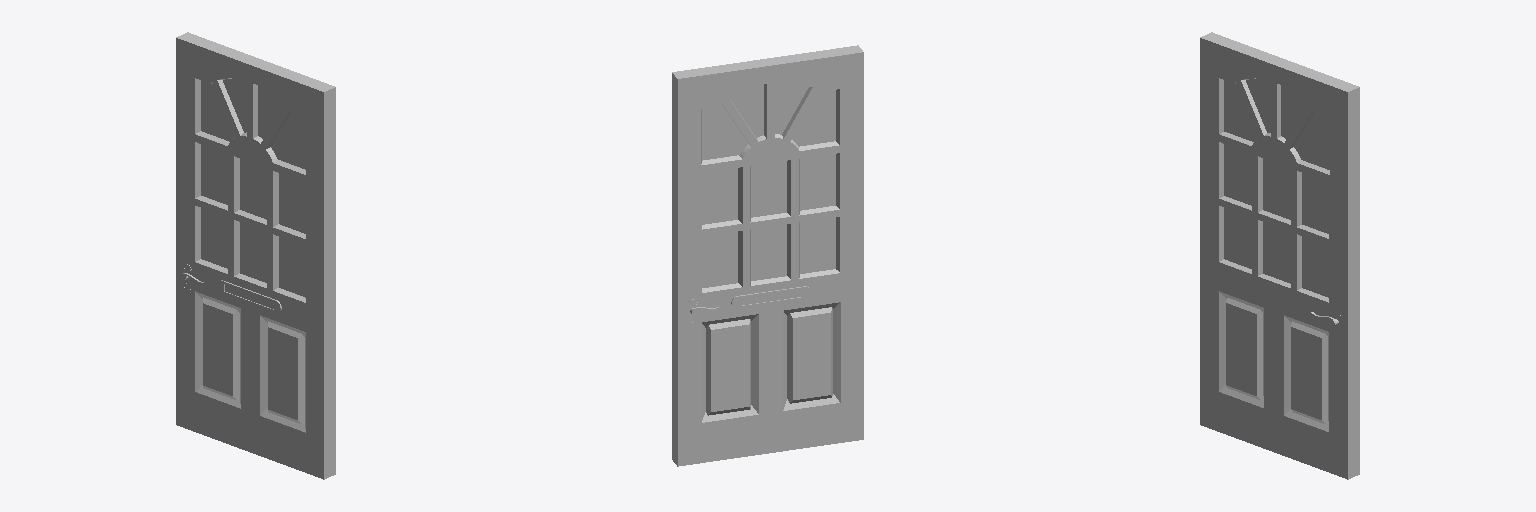
Rendered from door2_000011.obj.
3 renders of one model, left to right at view 1: azimuth 90°, elevation 25°; view 2: azimuth 150°, elevation 25°; view 3: azimuth 270°, elevation 25°, orthographic.
Parts seen in each view (by area): view 1: Door.000_Door.004; view 2: Door.000_Door.004; view 3: Door.000_Door.004.
Part boxes in pixels (bbox=[...]): Door.000_Door.004: bbox=[176, 32, 335, 479]; Door.000_Door.004: bbox=[672, 45, 863, 466]; Door.000_Door.004: bbox=[1200, 32, 1359, 479].
Bounding box in the file's own units: 0.5353 × 1.6 × 0.5997.